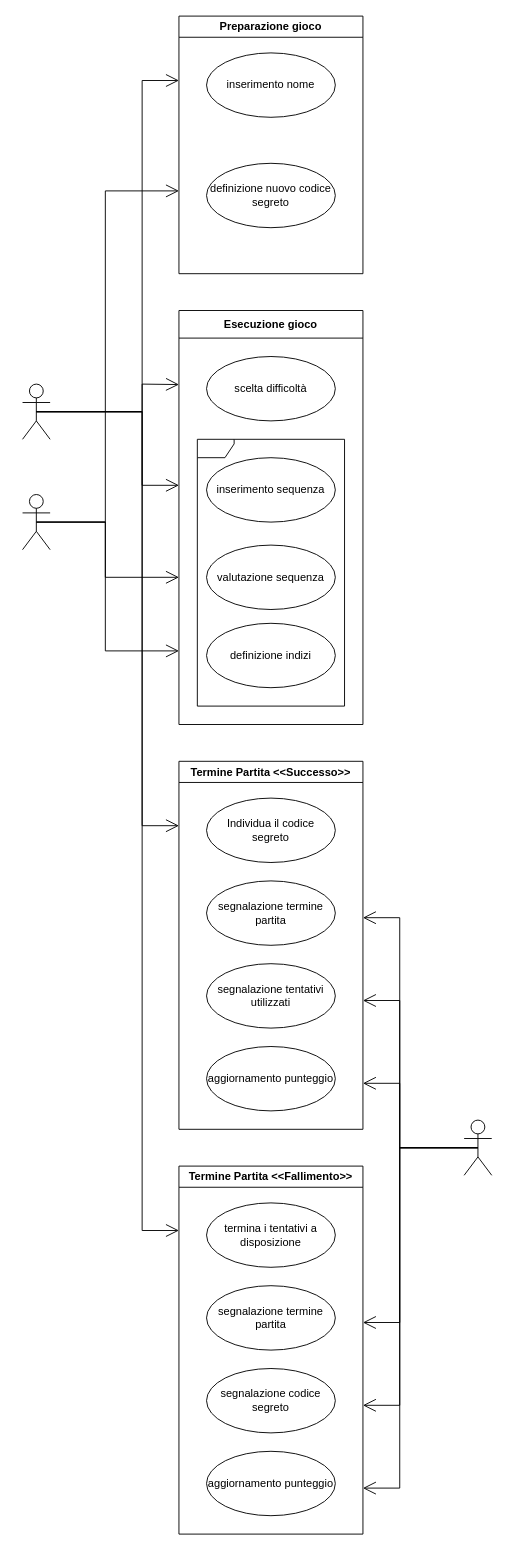
Some shapes in this 513 by 1550 pixel diagram are drawn without their labels. The centre of each missing label's shape, as x and y in pixels:
Decoder: the point at 36,411
Encoder: the point at 36,522
Loop: the point at 270,572
Sistema: the point at 477,1147
